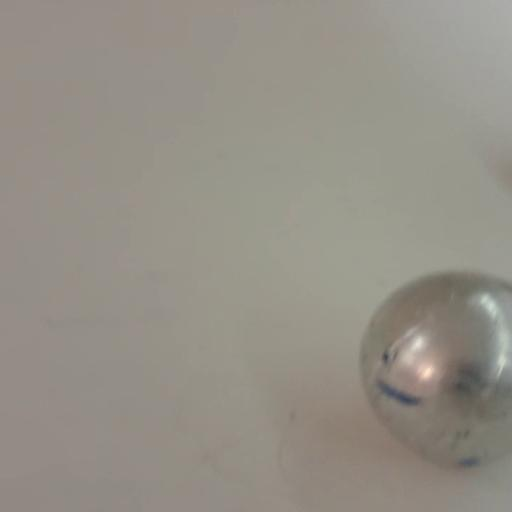alive: (352, 266, 512, 476)
